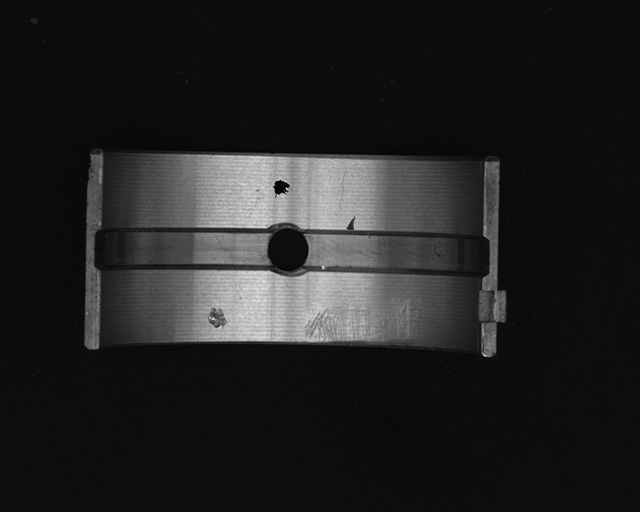blot: (273, 179, 291, 198)
bruise: (206, 305, 229, 329), (344, 216, 356, 231)
gap: (302, 230, 487, 279), (91, 226, 277, 272)
hole: (267, 223, 311, 278)
nick: (339, 169, 347, 210)
scratch: (303, 303, 422, 345)
